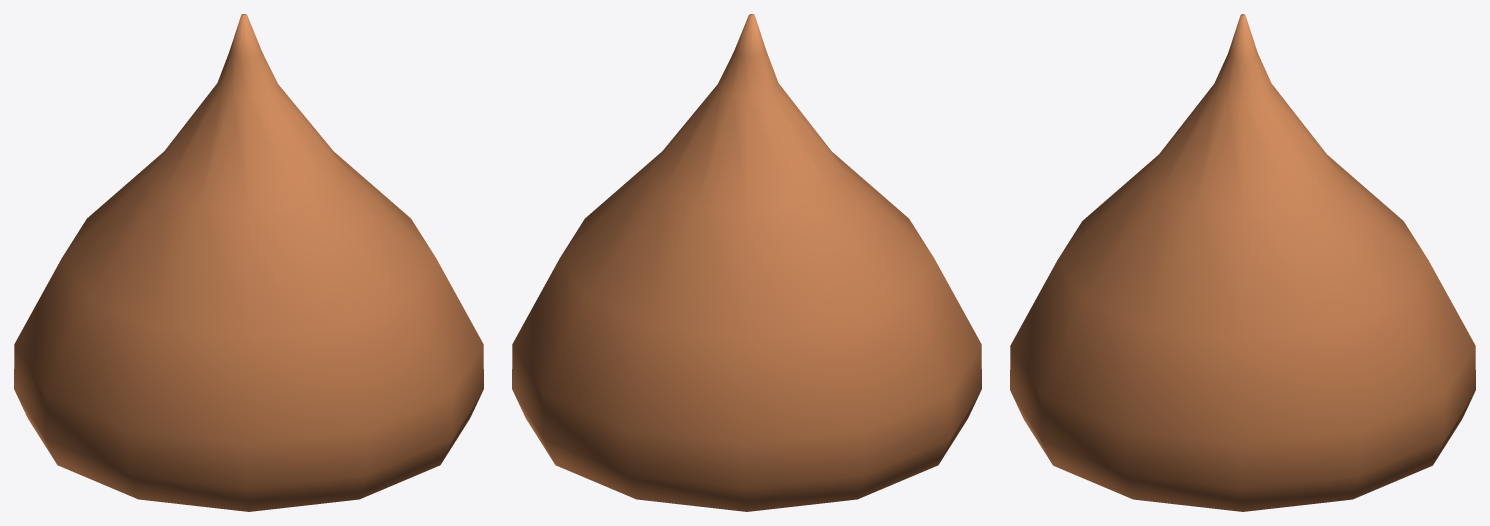
Rendered from candy_choco_2.fbx.
3 renders of one model, left to right at view 1: azimuth 30°, elevation 25°; view 2: azimuth 150°, elevation 25°; view 3: azimuth 270°, elevation 25°, orthographic.
Visible parts, largest first — view 1: c_c_2; view 2: c_c_2; view 3: c_c_2.
Boxes of the visible parts, x1,y1,x2,y2 form: c_c_2: (14, 14, 483, 511); c_c_2: (512, 14, 981, 511); c_c_2: (1010, 14, 1475, 511).
Bounding box in the file's own units: 117 × 115 × 117.
